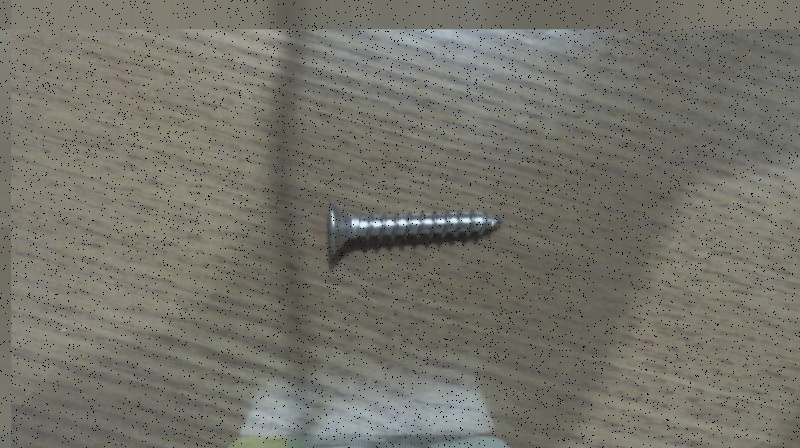S001: (323, 197, 504, 263)
